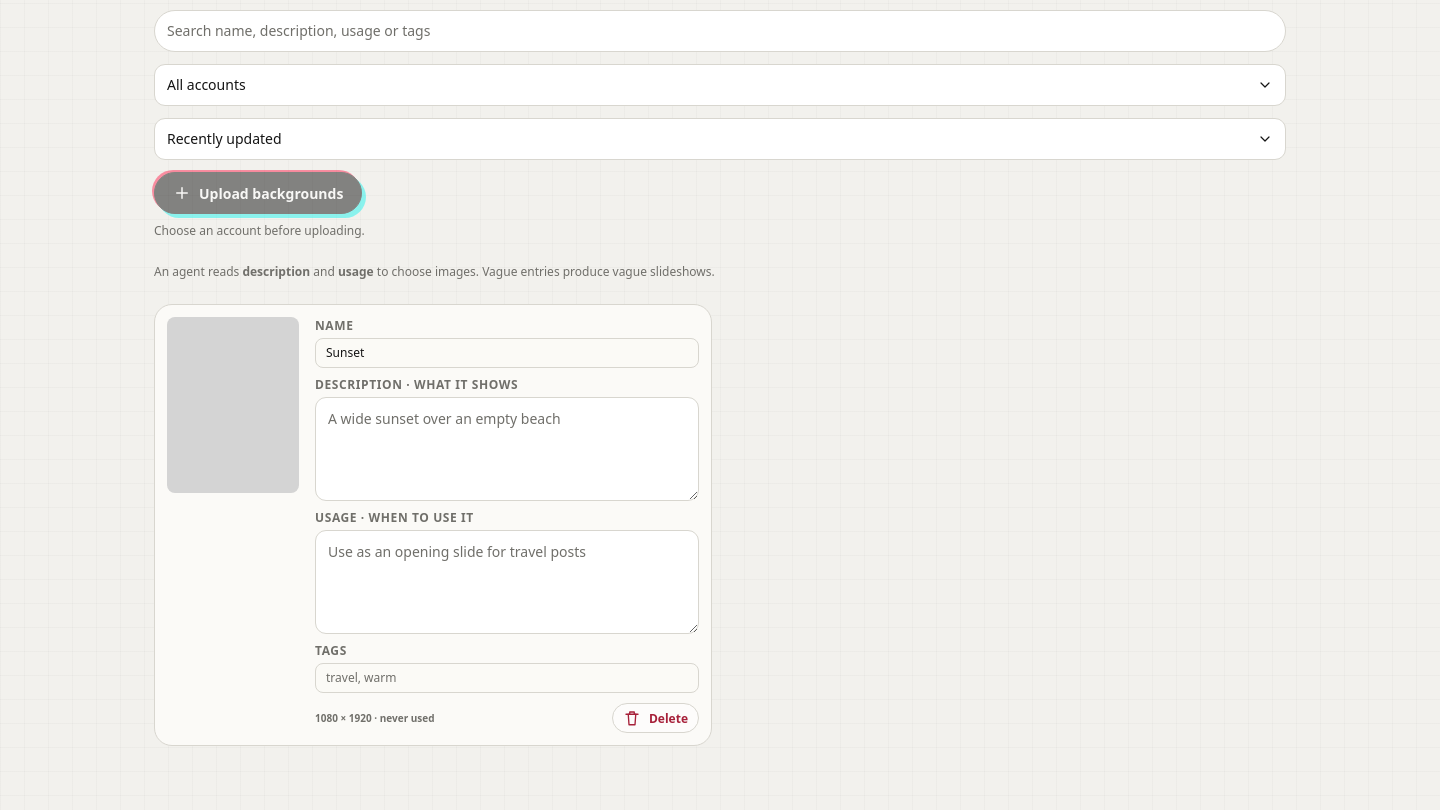
deletes anyway when the warning is confirmed
(page scrolled)
Click the button with aria-label "Delete Sunset": (656, 718) [612,703,699,733]
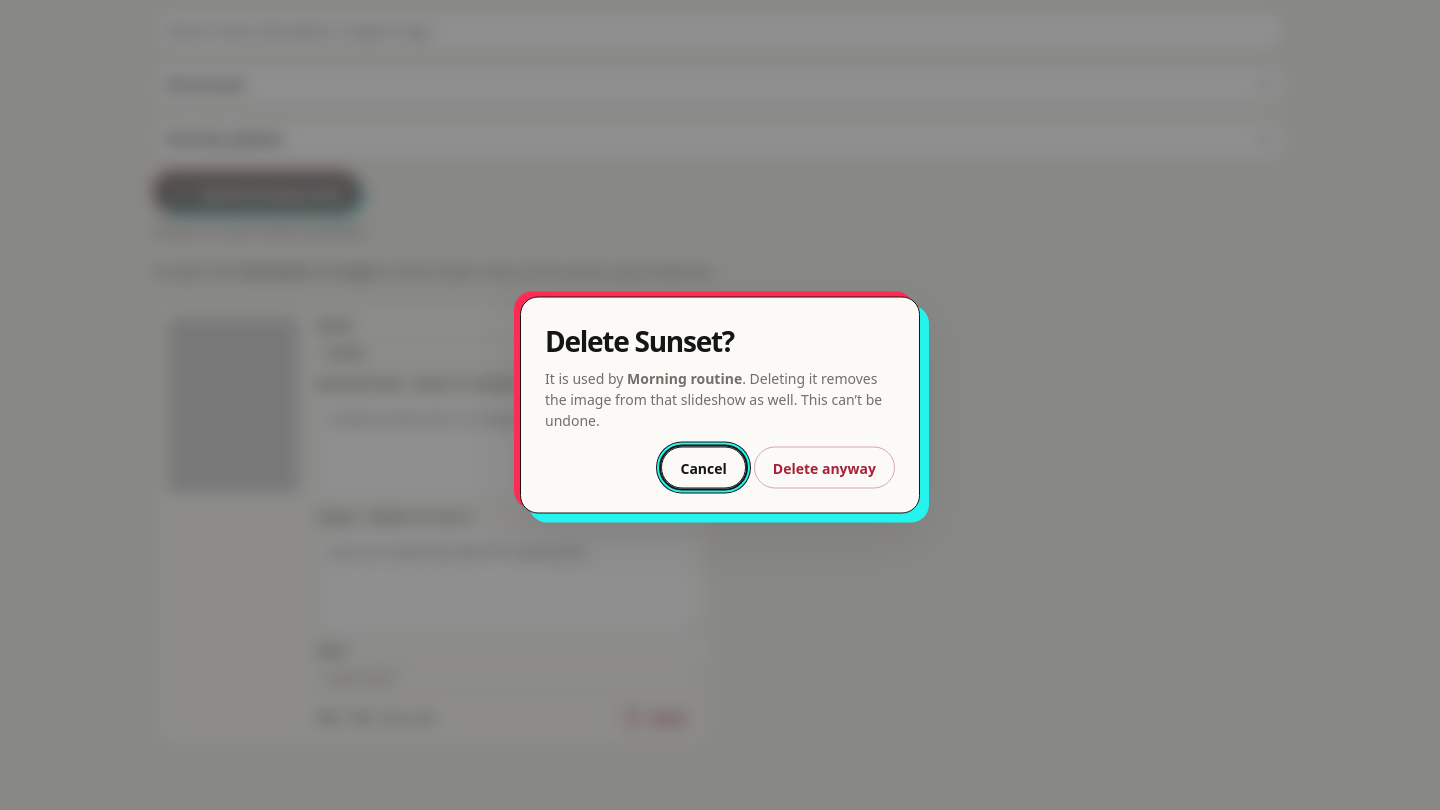
Now the dialog is shown, box [520,296,920,514]
Click the button "Delete anyway": (824, 468) [754,446,895,488]
(page scrolled)
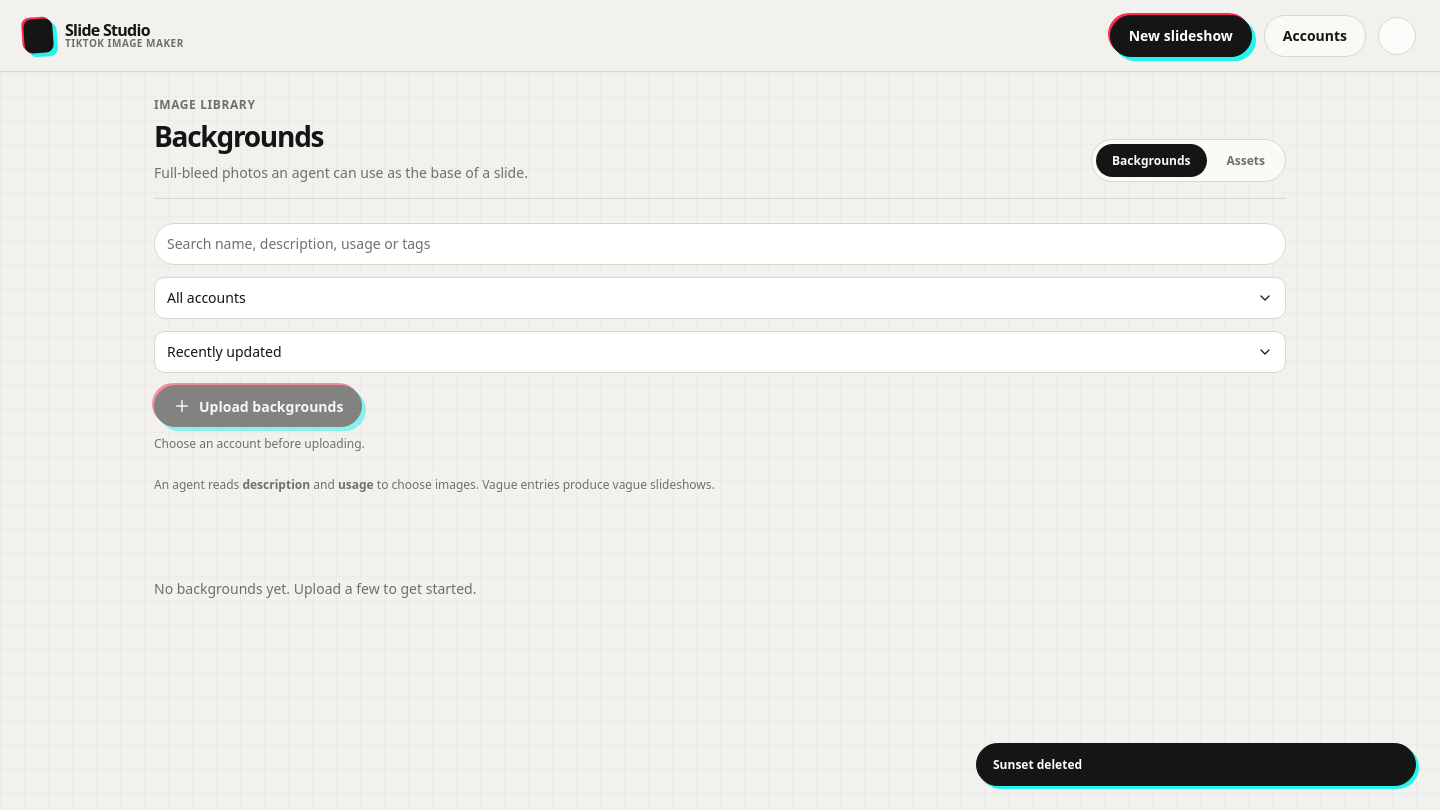
Now the text "Sunset deleted" is shown, box [993,756,1082,773]
